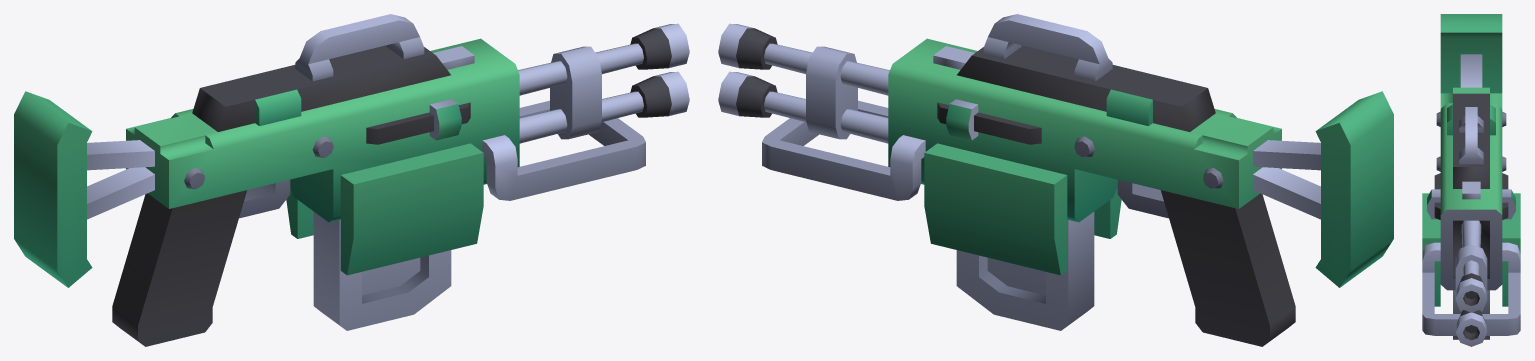
The model's file is Blaster_Flechette.obj.
3 renders of one model, left to right at view 1: azimuth 30°, elevation 25°; view 2: azimuth 150°, elevation 25°; view 3: azimuth 270°, elevation 25°, orthographic. The views are drawn at different scales.
Visible parts, largest first — view 1: blaster-p, magazine; view 2: blaster-p, magazine; view 3: blaster-p, magazine.
Boxes of the visible parts, box(x1,y1,x2,y2) form: blaster-p: box(14, 14, 689, 346); magazine: box(313, 212, 451, 330); blaster-p: box(718, 14, 1393, 346); magazine: box(956, 212, 1094, 330); blaster-p: box(1422, 14, 1520, 346); magazine: box(1453, 290, 1489, 339).
Size of the model in its own units: 0.8621 by 0.3709 by 0.16.
Materials: 1 (1 with a texture image).
